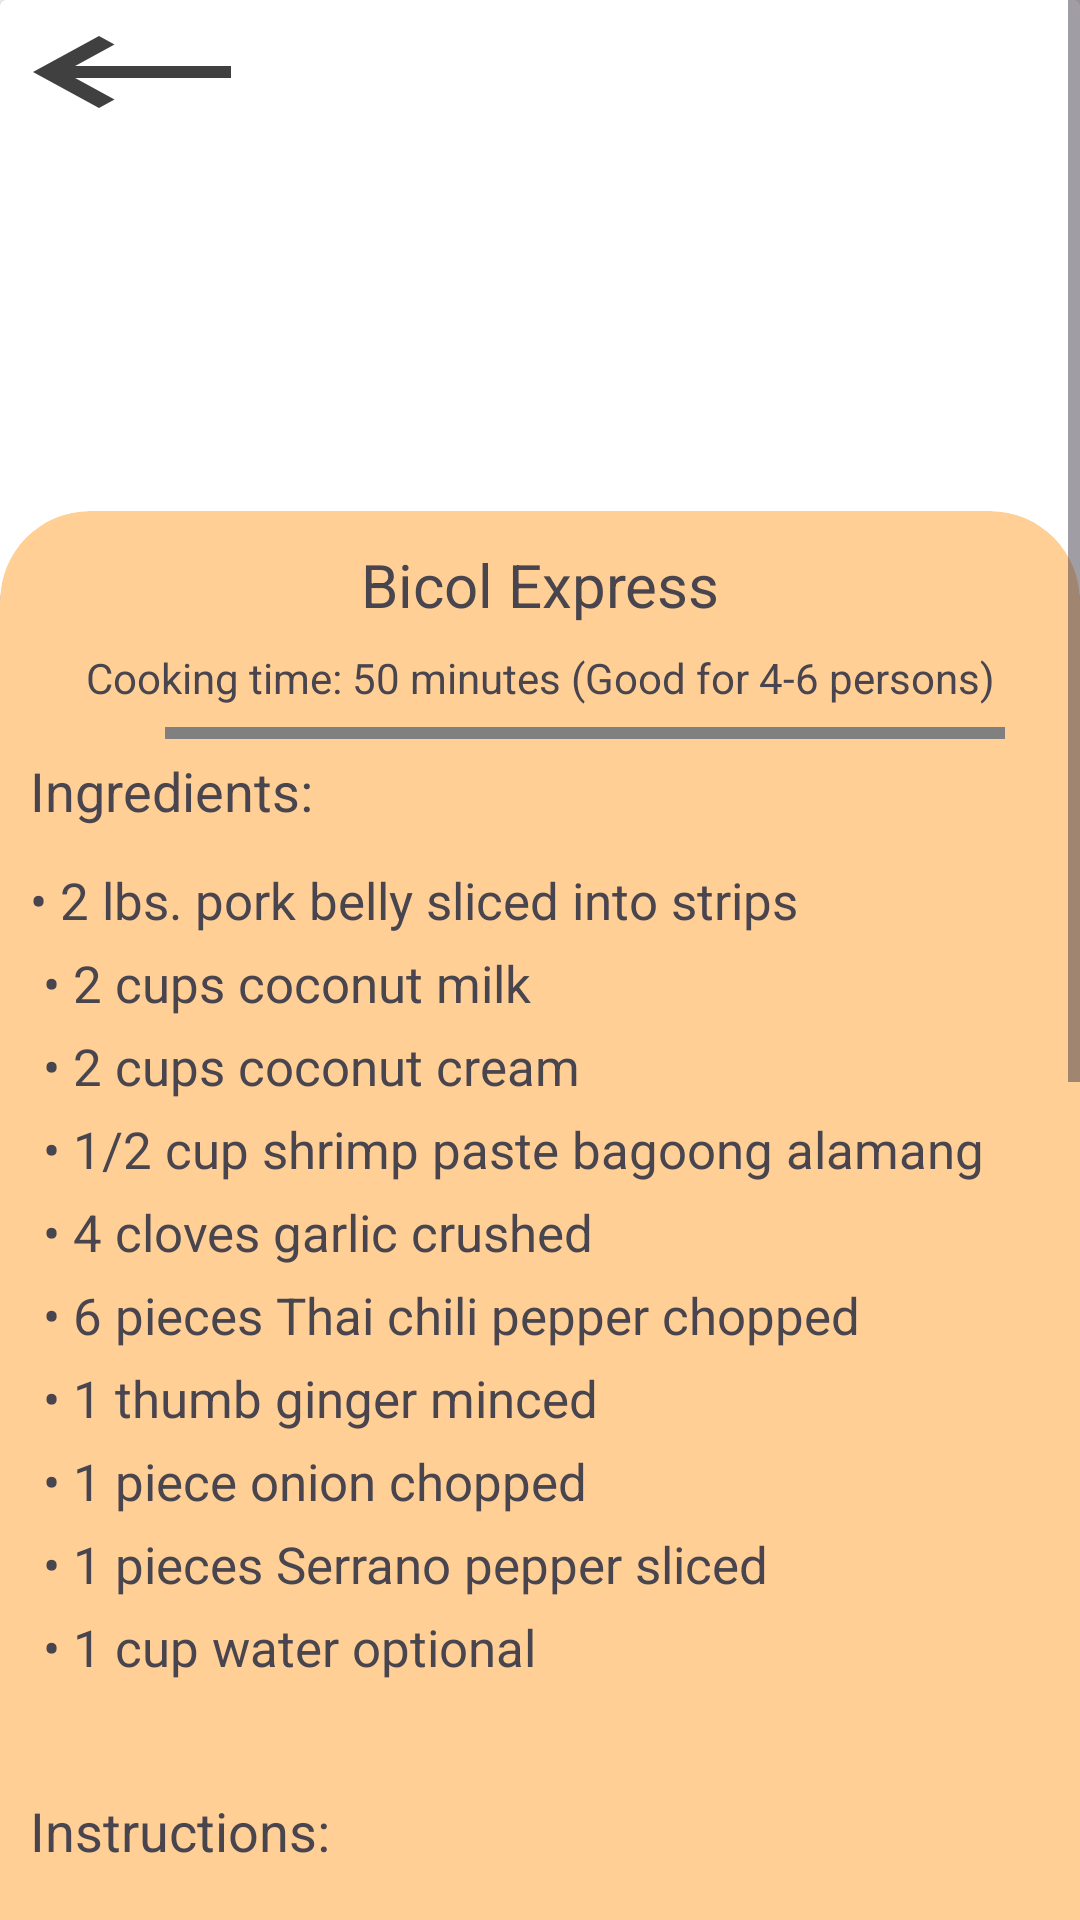

Screen size 1080w x 1920h. Icon name, then its box in pixels as box=[x1, y1, x2, y2]:
keyboard backspace: box=[0, 0, 231, 108]
